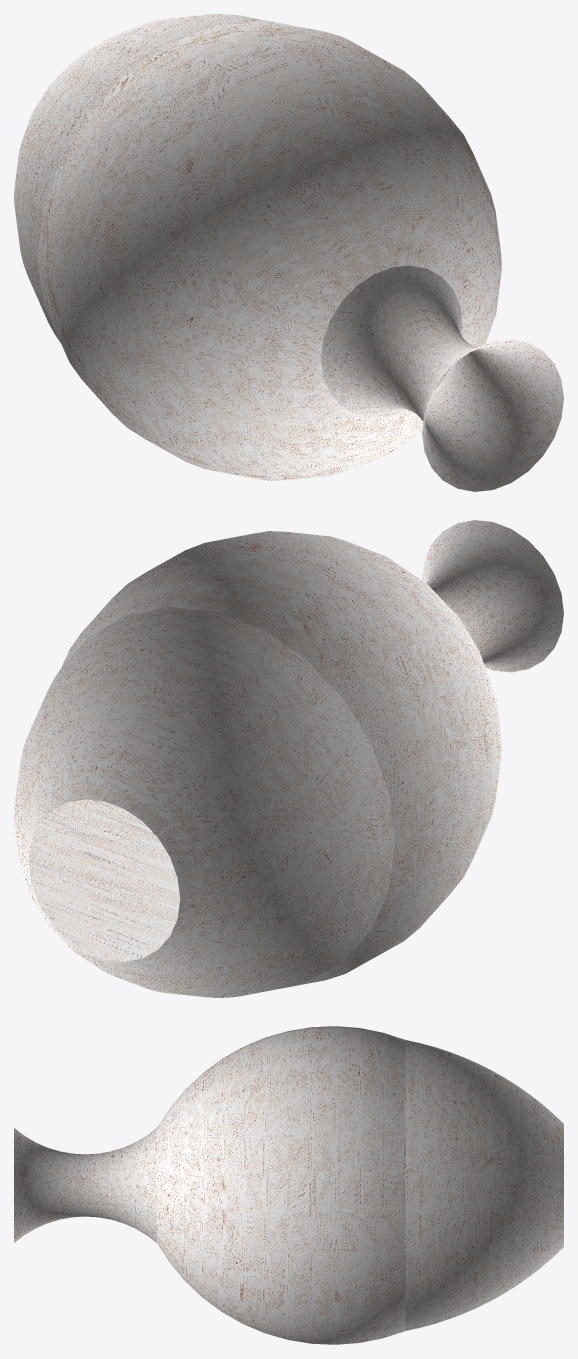
The model's file is model_align.obj.
3 views of the same model, one above another, from view 1: azimuth 30°, elevation 25°; view 2: azimuth 150°, elevation 25°; view 3: azimuth 270°, elevation 25° (orthographic). The views are drawn at different scales.
Visible parts, largest first — view 1: mesh1_mesh1-geometry; view 2: mesh1_mesh1-geometry; view 3: mesh1_mesh1-geometry.
Boxes of the visible parts, bbox=[...] form: mesh1_mesh1-geometry: bbox=[14, 14, 563, 491]; mesh1_mesh1-geometry: bbox=[14, 520, 563, 997]; mesh1_mesh1-geometry: bbox=[14, 1026, 563, 1344].
Size of the model in its own units: 0.1256 by 0.1256 by 0.216.
Materials: 2 (1 with a texture image).
